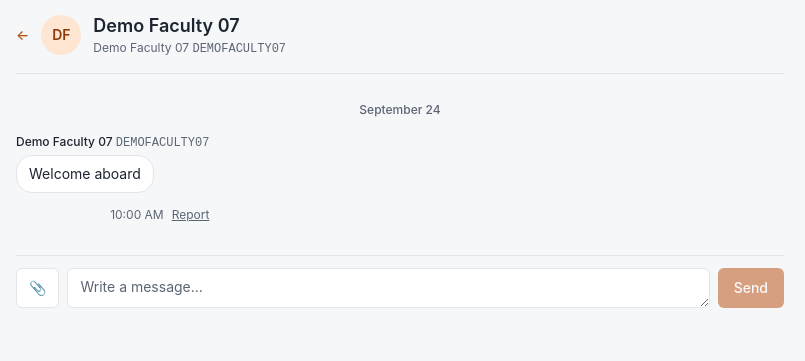
Test case: ThreadPage › surfaces the reason a send was refused
The image size is (805, 361).
Check: the text "Welcome aboard" is shown, box [29,165,141,182]
Type "Hi" into the text box labelled "message" at (389, 288), box [68,268,710,308]
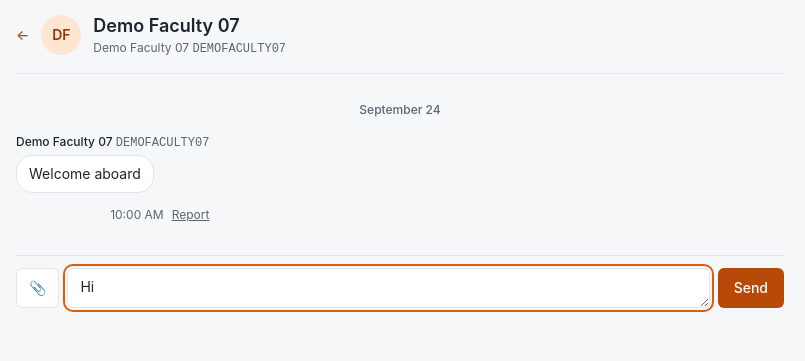
Click the button "Send" at (751, 288), box [718,268,784,308]
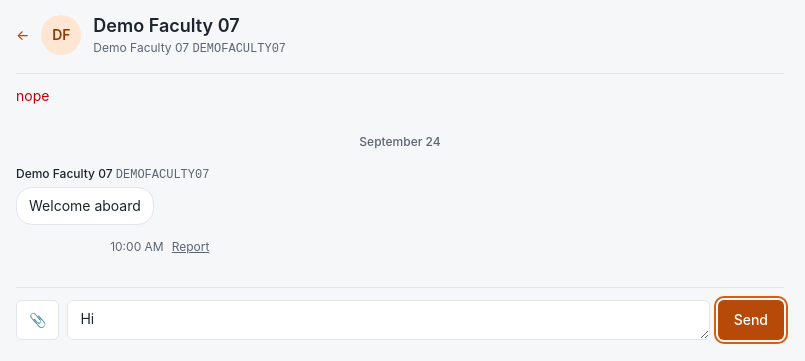
Check: the message "nope" is shown, box [16,87,49,104]
